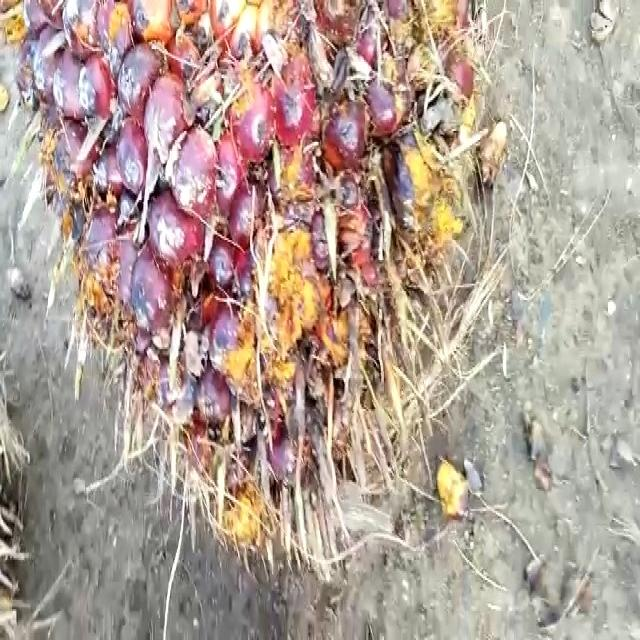palm oil: (16, 7, 502, 513)
